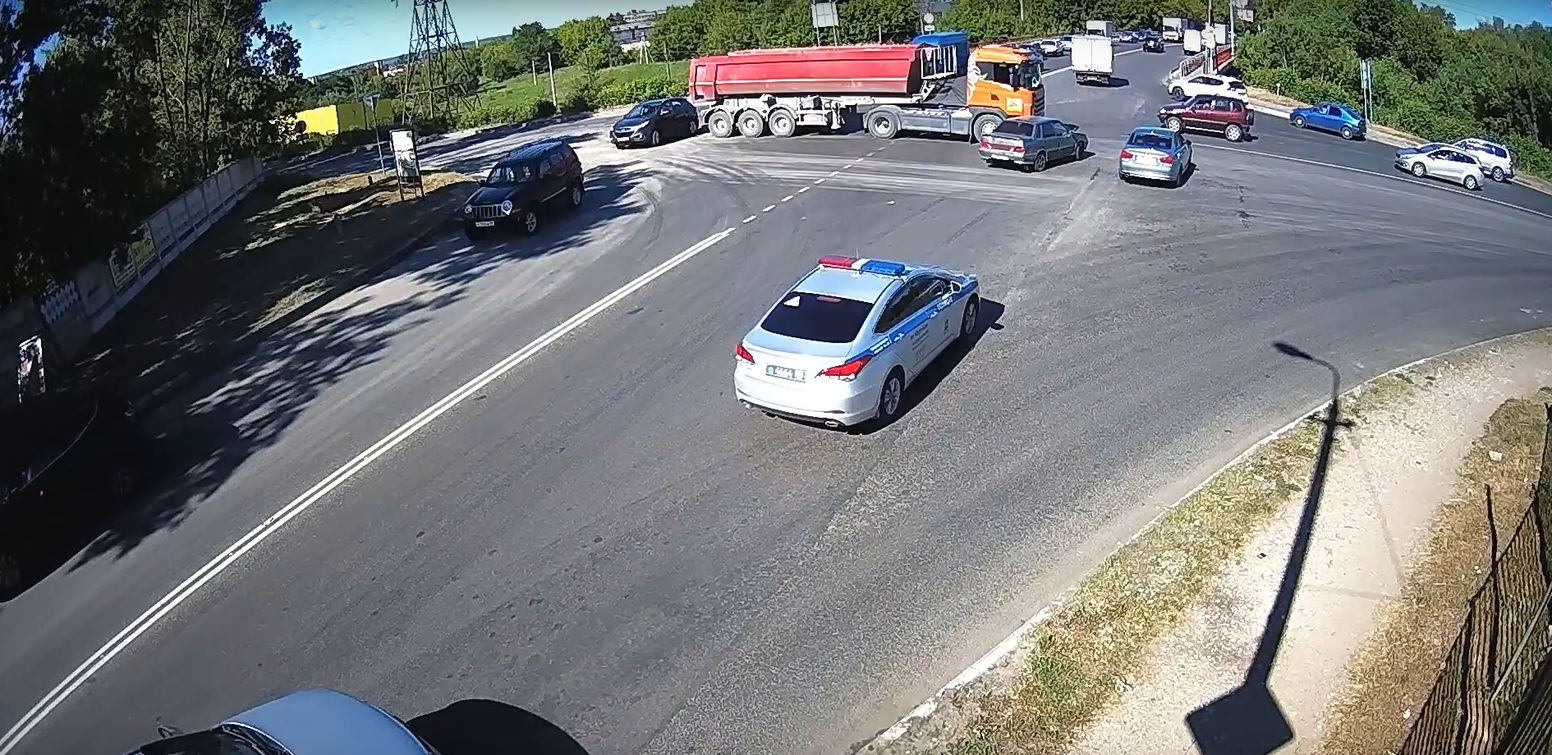bus: (911, 30, 971, 73), (1182, 30, 1202, 56)
car: (118, 688, 457, 755), (460, 136, 586, 237), (978, 115, 1088, 173), (608, 96, 705, 149), (1117, 126, 1197, 187), (1162, 92, 1254, 138), (1394, 144, 1484, 191), (1288, 101, 1368, 140), (1447, 138, 1516, 181), (1167, 73, 1251, 101), (1021, 40, 1045, 59), (1141, 33, 1165, 51), (1041, 39, 1065, 57), (1061, 35, 1081, 55), (1119, 30, 1138, 43)
lorry: (686, 43, 1049, 146)
police: (731, 255, 998, 433)
truck: (1071, 33, 1114, 88), (1084, 19, 1113, 43), (1162, 19, 1188, 43), (1207, 23, 1229, 45)
